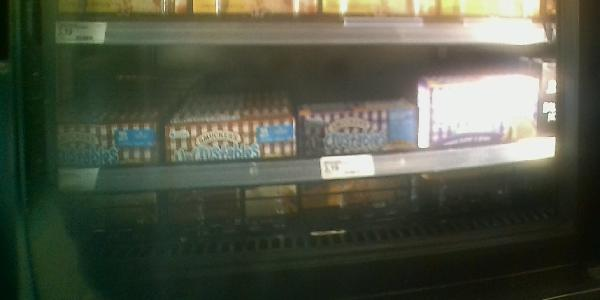icecream: (421, 76, 539, 150), (165, 113, 296, 162), (297, 106, 418, 156), (57, 121, 162, 168)
